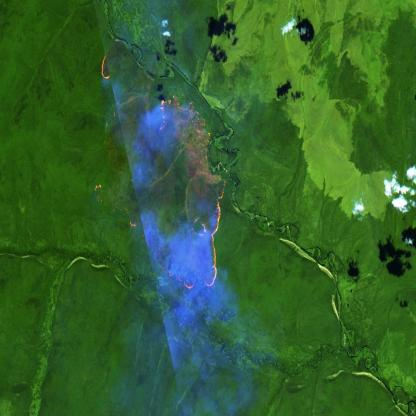fire: (165, 193, 224, 291), (151, 90, 178, 134), (96, 50, 113, 86)
